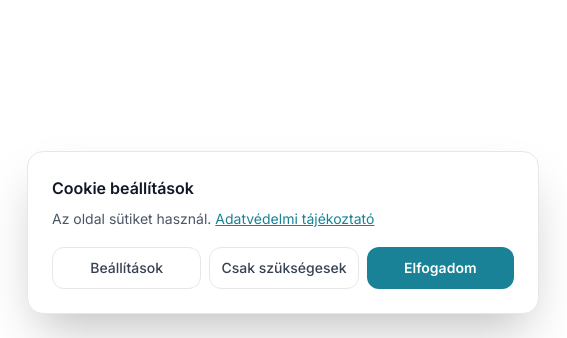
Scenario: CookieConsent › "Beállítások" opens detailed options
Click the button "Beállítások".
click(127, 268)  # box 52,247 -> 201,289
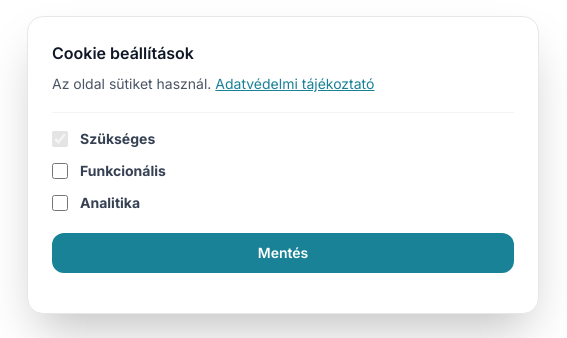
Check: the text "Funkcionális" is shown, box 80,162 -> 166,179
Check: the text "Analitika" is shown, box 80,194 -> 140,211
Check: the button "Mentés" is shown, box 52,233 -> 514,273
